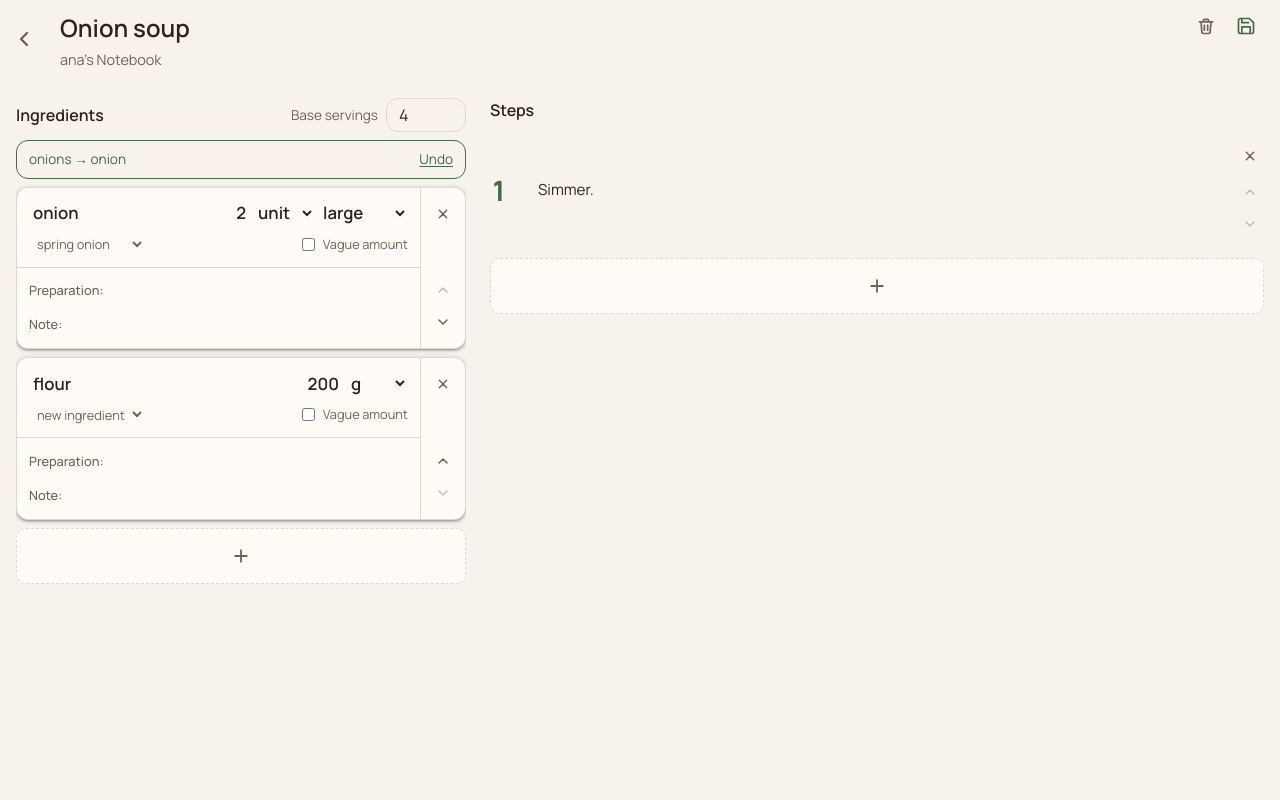
Scenario: match control (spec 018 US3) › choosing another catalog entry updates the selection and the change list
This screenshot has width=1280, height=800.
Select "spring onion" in the dropdown named "Catalog match" below "onions → onion" at (87, 244), box x1=29 y1=232 x2=145 y2=257
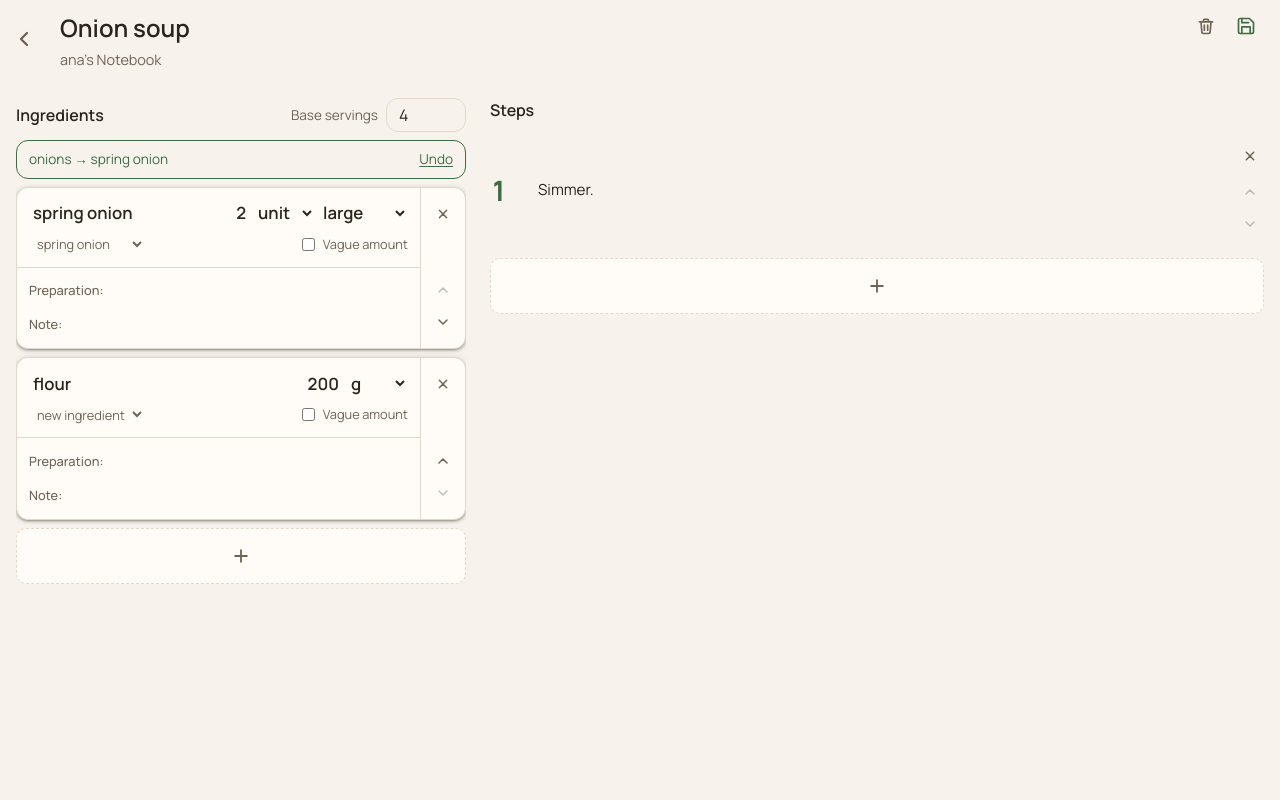
Expected: the text "onions → spring onion" is shown, x1=29 y1=149 x2=168 y2=170
